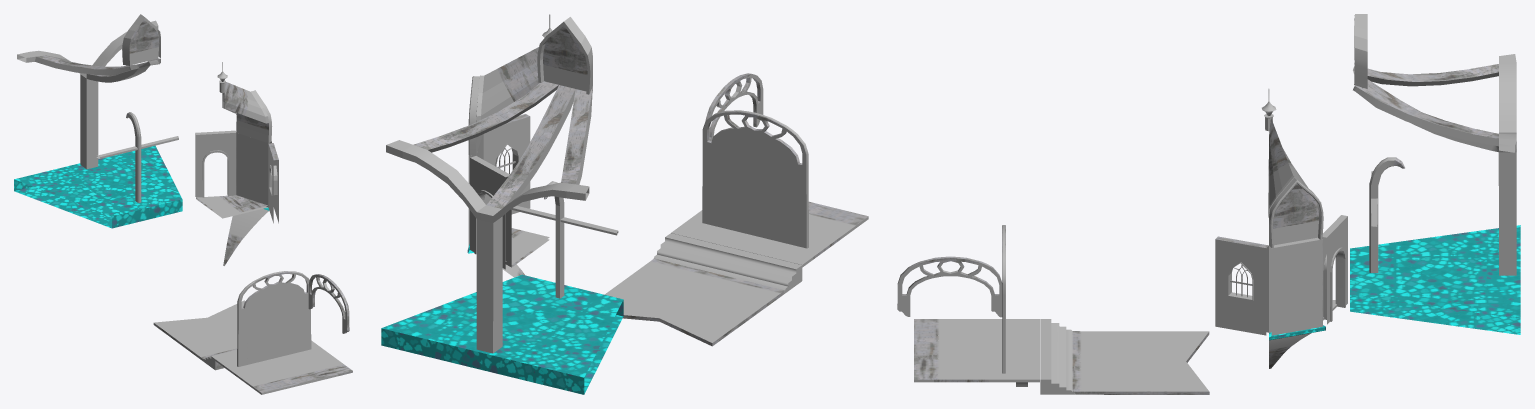
The model's file is Third Versiion Light maps and correction.fbx.
3 views of the same model, side by side, from view 1: azimuth 30°, elevation 25°; view 2: azimuth 150°, elevation 25°; view 3: azimuth 270°, elevation 25° (orthographic). The views are drawn at different scales.
Parts seen in each view (by area): view 1: Platform_Base, Bridge_Principal_Base, Bridge_Principal_Base1, Bridge_Principal_Arch_Wall, Platfrom_UP_Base, House_Wall3, Bridge_Principal_Arc, House_Wall_Doorway, Base_Pillar, Up_Transition, Bridge_Principal_Arch_Block, House_Ceiling (+7 smaller); view 2: Platform_Base, Platfrom_UP_Base, Bridge_Principal_Base1, Bridge_Principal_Arch_Wall, Bridge_Principal_Base, Ramp_A, Bridge_Principal_Arc, Base_Pillar, Up_Transition, Bridge_Principal_Arch_Block, House_Ceiling, House_Wall_Doorway (+6 smaller); view 3: Platform_Base, Bridge_Principal_Base1, Bridge_Principal_Base, Platfrom_UP_Base, House_Wall3, Window_Wall, House_Ceiling_Transition, Ramp_A, Base_Pillar, House_Wall_Doorway, Bridge_Principal_Corner_Left, House_Ceiling (+4 smaller).
Part boxes in pixels (x1=…): Platform_Base: x1=14, y1=145, x2=182, y2=228; Bridge_Principal_Base: x1=215, y1=340, x2=352, y2=394; Bridge_Principal_Base1: x1=153, y1=300, x2=245, y2=369; Bridge_Principal_Arch_Wall: x1=247, y1=285, x2=302, y2=364; Platfrom_UP_Base: x1=17, y1=20, x2=160, y2=82; House_Wall3: x1=236, y1=133, x2=271, y2=206; Bridge_Principal_Arc: x1=237, y1=271, x2=311, y2=366; House_Wall_Doorway: x1=195, y1=130, x2=236, y2=197; Base_Pillar: x1=80, y1=74, x2=98, y2=169; Up_Transition: x1=122, y1=14, x2=160, y2=65; Bridge_Principal_Arch_Block: x1=247, y1=321, x2=302, y2=358; House_Ceiling: x1=222, y1=82, x2=268, y2=123; Platform_Base: x1=381, y1=274, x2=623, y2=394; Platfrom_UP_Base: x1=386, y1=81, x2=592, y2=222; Bridge_Principal_Base1: x1=604, y1=258, x2=800, y2=346; Bridge_Principal_Arch_Wall: x1=714, y1=131, x2=794, y2=245; Bridge_Principal_Base: x1=671, y1=201, x2=868, y2=267; Ramp_A: x1=653, y1=233, x2=802, y2=294; Bridge_Principal_Arc: x1=702, y1=110, x2=808, y2=248; Base_Pillar: x1=476, y1=216, x2=502, y2=353; Up_Transition: x1=537, y1=17, x2=592, y2=94; Bridge_Principal_Arch_Block: x1=714, y1=183, x2=794, y2=236; House_Ceiling: x1=476, y1=47, x2=539, y2=121; House_Wall_Doorway: x1=470, y1=156, x2=511, y2=269; Platform_Base: x1=1350, y1=225, x2=1520, y2=334; Bridge_Principal_Base1: x1=1072, y1=331, x2=1209, y2=394; Bridge_Principal_Base: x1=914, y1=319, x2=1039, y2=386; Platfrom_UP_Base: x1=1353, y1=54, x2=1516, y2=152; House_Wall3: x1=1269, y1=237, x2=1322, y2=335; Window_Wall: x1=1215, y1=236, x2=1268, y2=335; House_Ceiling_Transition: x1=1269, y1=178, x2=1323, y2=247; Ramp_A: x1=1040, y1=319, x2=1075, y2=394; Base_Pillar: x1=1498, y1=152, x2=1516, y2=275; House_Wall_Doorway: x1=1322, y1=215, x2=1347, y2=324; Bridge_Principal_Corner_Left: x1=897, y1=256, x2=1002, y2=317; House_Ceiling: x1=1268, y1=118, x2=1318, y2=217.
Bounding box in the file's own units: 1467 × 2158 × 3473.
